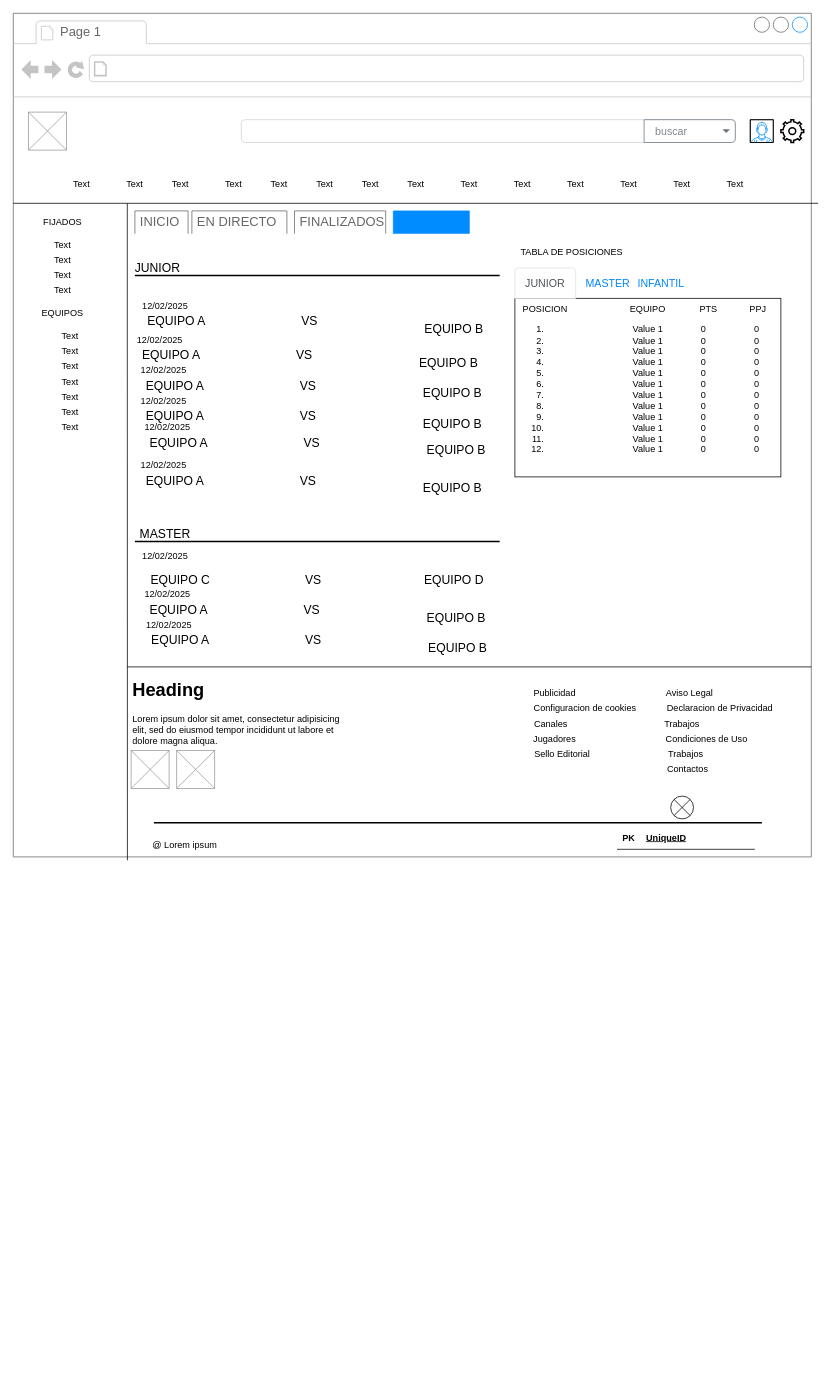
Image size: 832x1389. Some labels were removed from this diagram. The shapes that lost their labels are listed below. From the top down, each one's centre as x and y in pixels, then its label:
At pixel 206 68: "https://www.default.com".
At pixel 431 222: "PROXIMOS".
